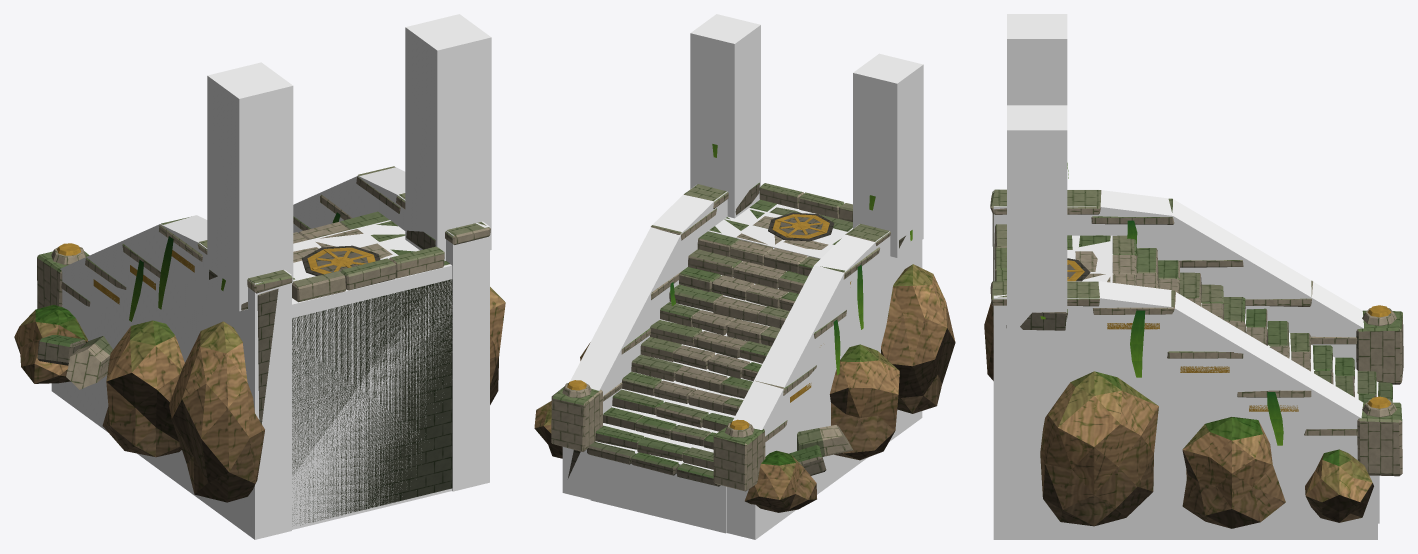
Rendered from ancient_temple_stairway.glb.
The picture shows the model from 3 angles, left to right: view 1: azimuth 30°, elevation 25°; view 2: azimuth 150°, elevation 25°; view 3: azimuth 270°, elevation 25°; orthographic projection. The views are drawn at different scales.
Visible parts, largest first — view 1: AncientTempleStairway, col_stairs_landing, col_stairs_wall_l, col_obelisk_l, col_obelisk_r, col_stairs_wall_r; view 2: AncientTempleStairway, col_stairs_wall_l, col_obelisk_l, col_obelisk_r, col_stairs_wall_r, col_stairs_ramp, col_stairs_landing; view 3: AncientTempleStairway, col_stairs_wall_r, col_stairs_wall_l, col_obelisk_r, col_obelisk_l, col_stairs_landing, col_stairs_ramp.
Part boxes in pixels (left/top/right/bottom): AncientTempleStairway: left=14, top=166, right=505, bottom=525; col_stairs_landing: left=292, top=220, right=452, bottom=529; col_stairs_wall_l: left=51, top=215, right=291, bottom=539; col_obelisk_l: left=207, top=62, right=293, bottom=311; col_obelisk_r: left=405, top=14, right=491, bottom=260; col_stairs_wall_r: left=293, top=167, right=489, bottom=491; AncientTempleStairway: left=534, top=144, right=955, bottom=512; col_stairs_wall_l: left=726, top=224, right=922, bottom=539; col_obelisk_l: left=853, top=53, right=923, bottom=257; col_obelisk_r: left=690, top=14, right=760, bottom=218; col_stairs_wall_r: left=562, top=185, right=727, bottom=499; col_stairs_ramp: left=590, top=239, right=808, bottom=533; col_stairs_landing: left=708, top=204, right=852, bottom=258; AncientTempleStairway: left=984, top=163, right=1403, bottom=528; col_stairs_wall_r: left=993, top=281, right=1377, bottom=539; col_stairs_wall_l: left=993, top=189, right=1363, bottom=368; col_obelisk_r: left=1007, top=105, right=1067, bottom=330; col_obelisk_l: left=1007, top=14, right=1067, bottom=105; col_stairs_landing: left=1067, top=235, right=1112, bottom=282; col_stairs_ramp: left=1112, top=254, right=1379, bottom=523.
Size of the model in its own units: 11.4 by 13.6 by 12.5.
Materials: 5 (4 with a texture image).
